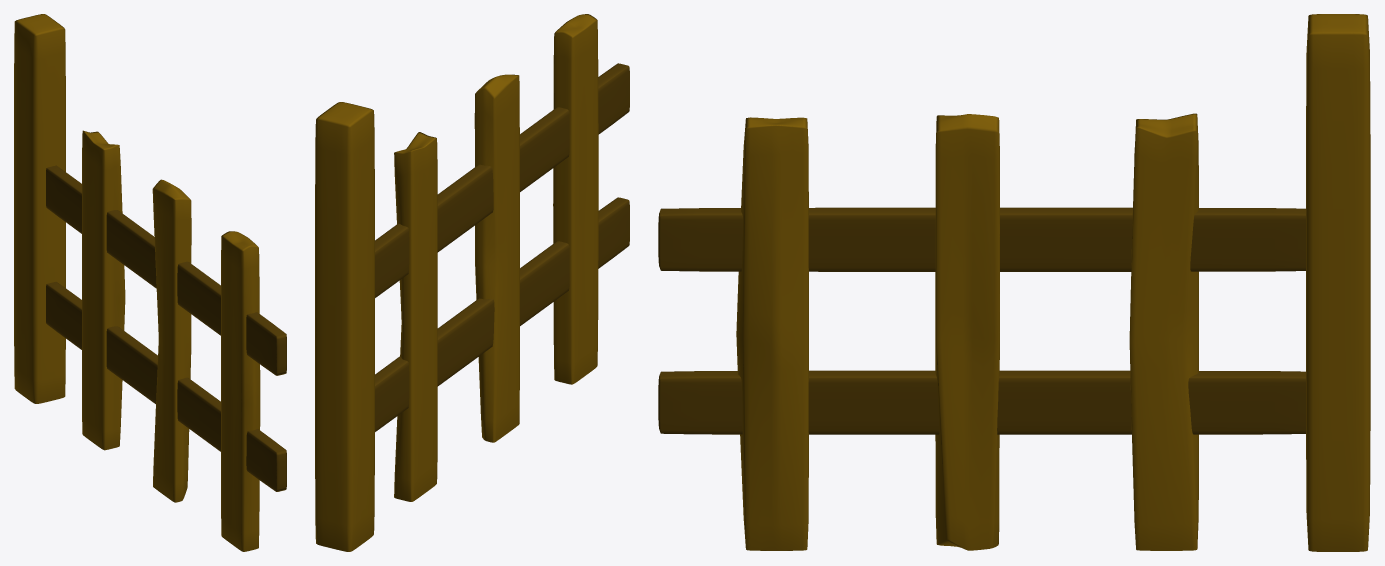
Rendered from fence 1.fbx.
The picture shows the model from 3 angles, left to right: view 1: azimuth 30°, elevation 25°; view 2: azimuth 150°, elevation 25°; view 3: azimuth 270°, elevation 25°; orthographic projection. The views are drawn at different scales.
Parts seen in each view (by area): view 1: pCube64; view 2: pCube64; view 3: pCube64.
Boxes of the visible parts, x1,y1,x2,y2 form: pCube64: (14,14,286,551); pCube64: (315,14,629,551); pCube64: (658,14,1370,551).
Size of the model in its own units: 0.2432 by 2.59 by 3.19.
